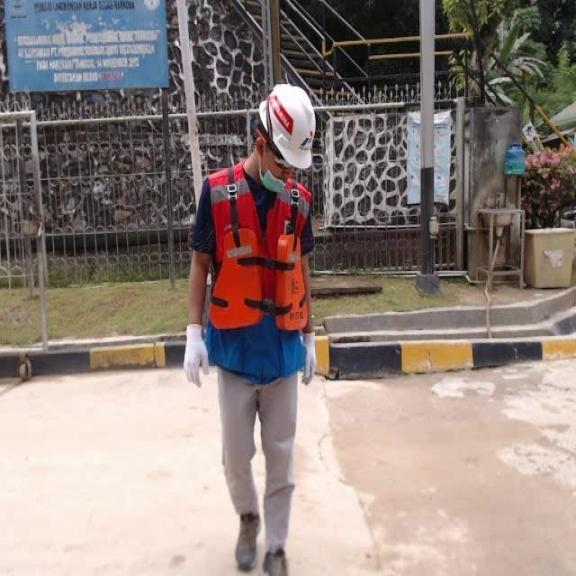safety_vest: (210, 227, 310, 332)
